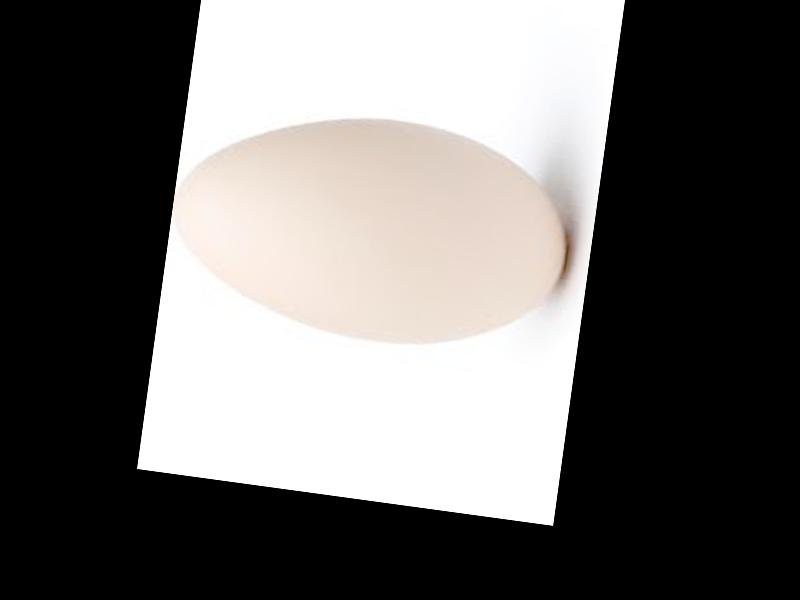Eggs: (161, 93, 582, 363)
